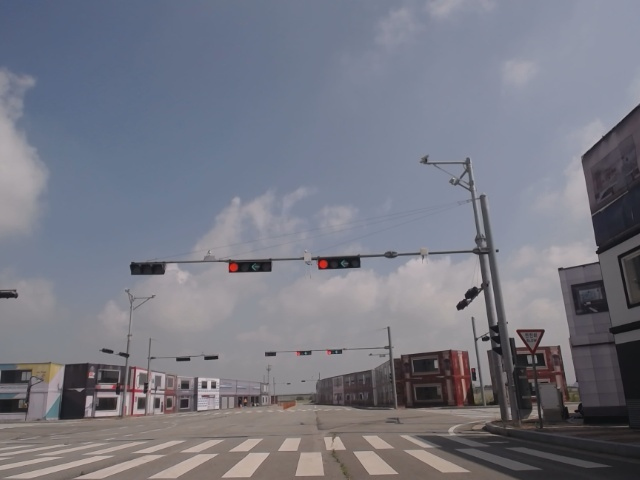left_green_4: (228, 261, 273, 272), (317, 258, 361, 269)
